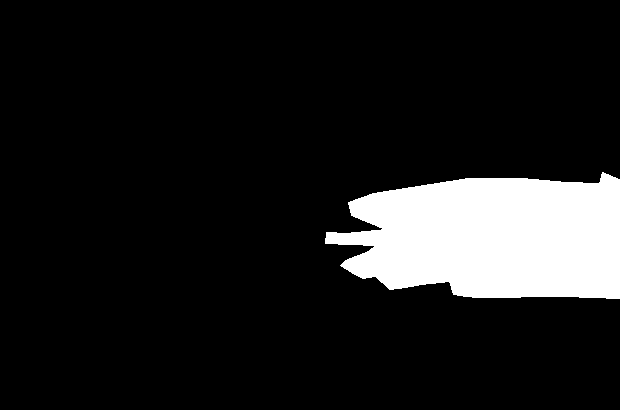type4: (321, 167, 620, 300)
